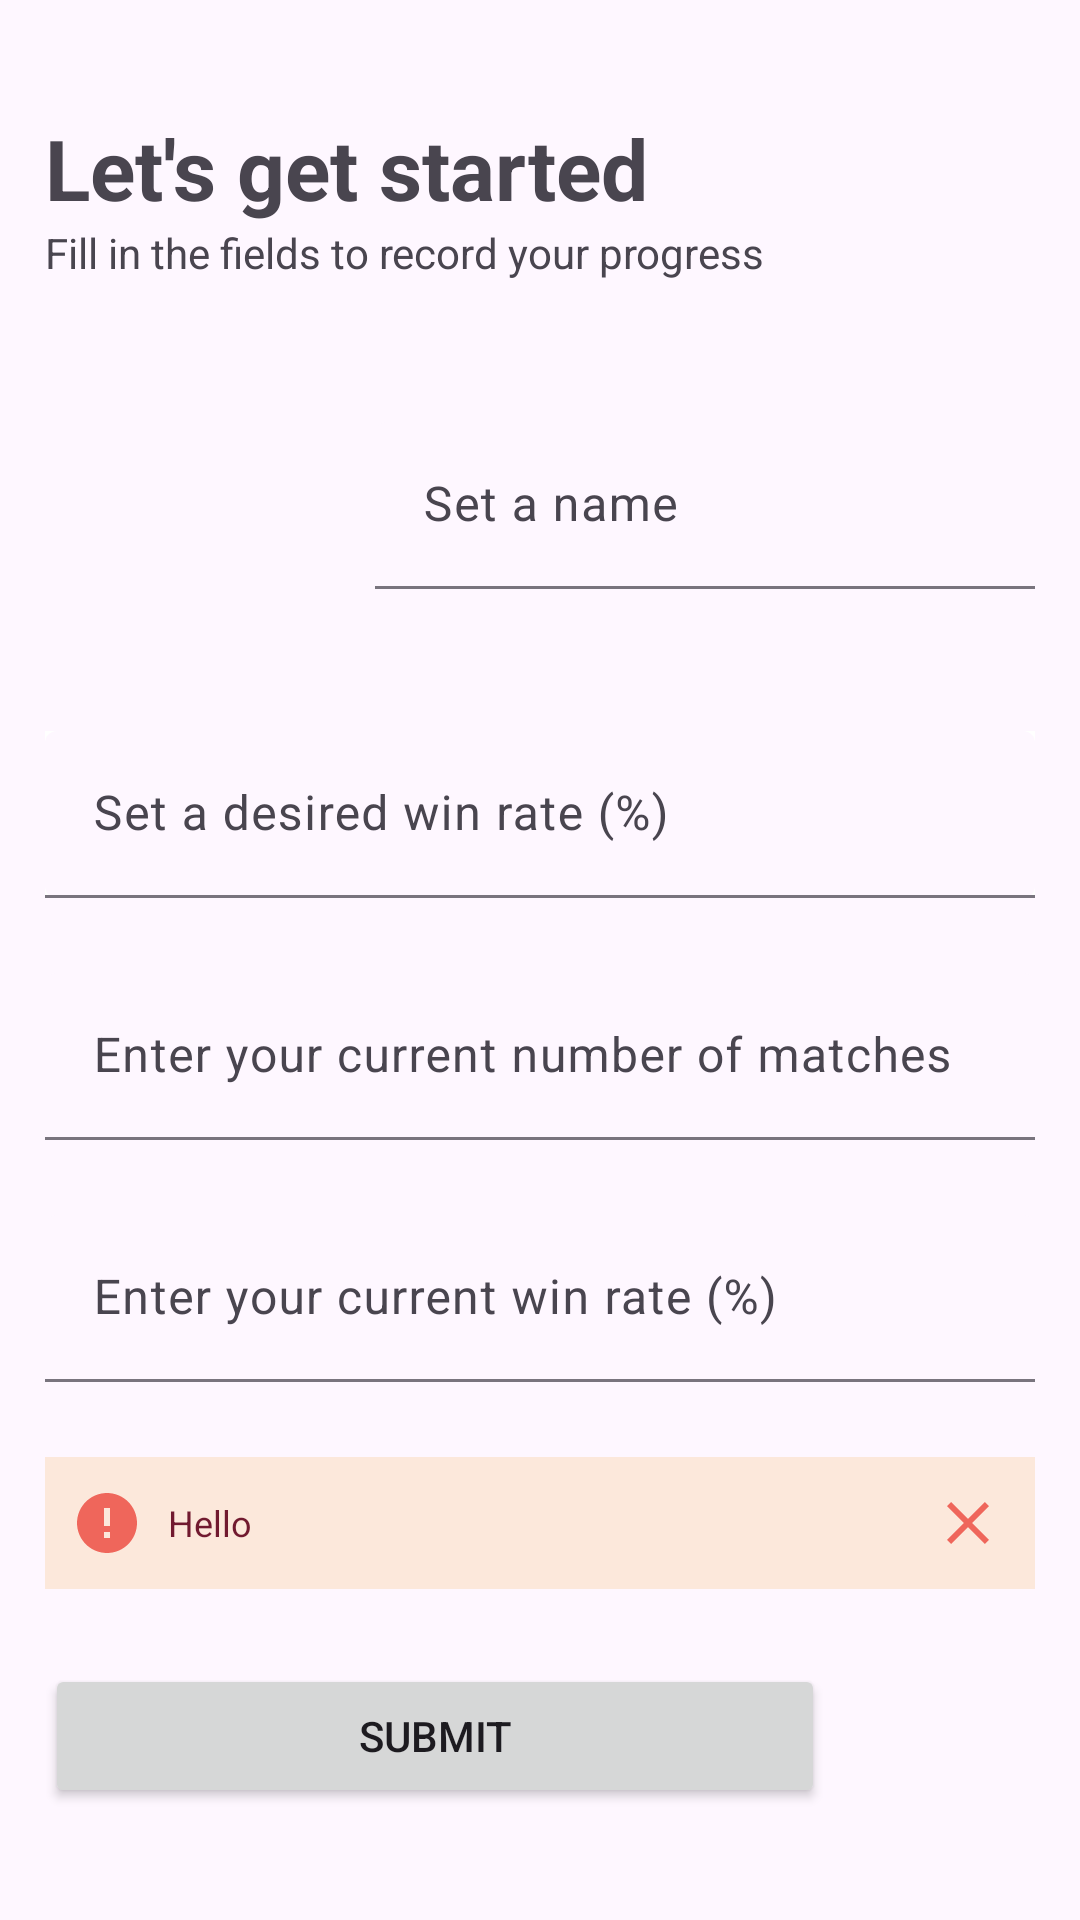

Icons on this 1080x1920 Android screen, each with its box as (x1, y1, x2, y2):
Close Button: (947, 1502, 989, 1544)
